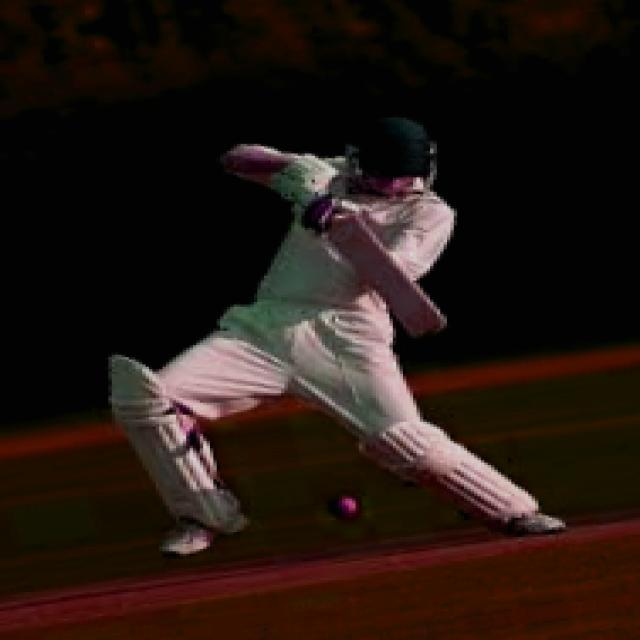bat: (320, 205, 456, 344)
toe: (415, 318, 443, 337)
